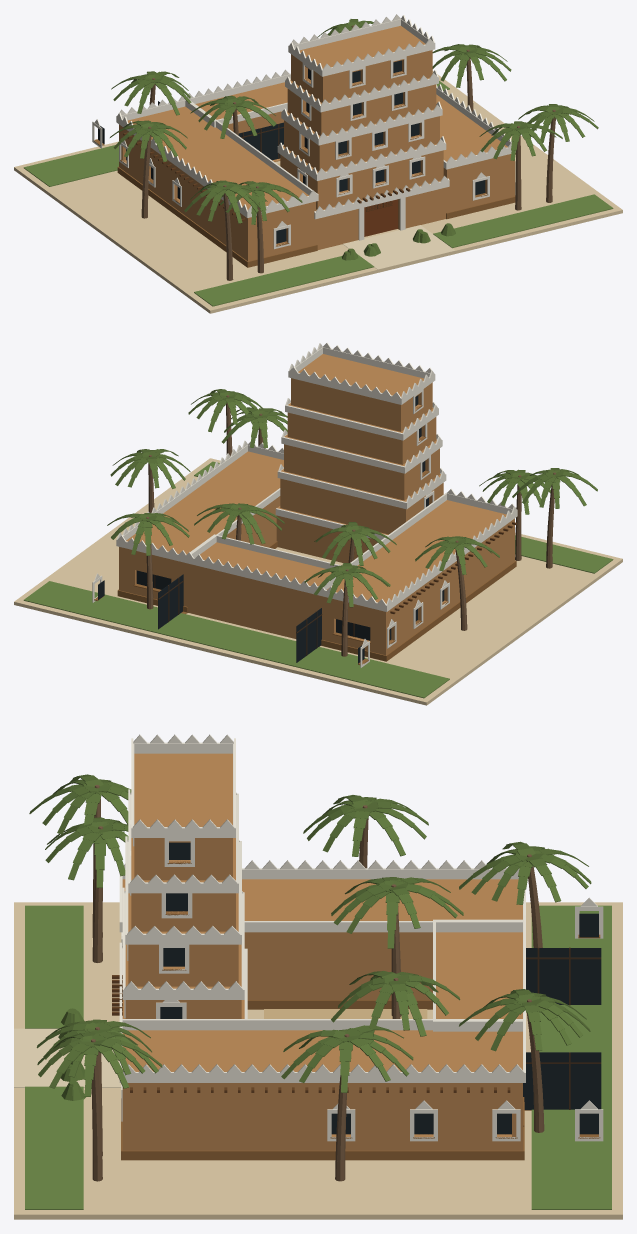
The model's file is najrani.glb.
The picture shows the model from 3 angles, top to bottom: view 1: azimuth 30°, elevation 25°; view 2: azimuth 150°, elevation 25°; view 3: azimuth 270°, elevation 25°; orthographic projection. The views are drawn at different scales.
Visible parts, largest first — view 1: Najrani_mud, Najrani_pave, Najrani_white, Najrani_leaf, Najrani_lawn, Najrani_trunk, Najrani_glass, Najrani_coping, Najrani_mud_d, Najrani_door, Najrani_wood; view 2: Najrani_mud, Najrani_pave, Najrani_white, Najrani_leaf, Najrani_lawn, Najrani_glass, Najrani_trunk, Najrani_mud_d; view 3: Najrani_mud, Najrani_pave, Najrani_white, Najrani_leaf, Najrani_lawn, Najrani_glass, Najrani_mud_d, Najrani_trunk, Najrani_coping, Najrani_court, Najrani_wood, Najrani_frame.
Part boxes in pixels (bbox=[...]): Najrani_mud: bbox=[119, 25, 514, 261]; Najrani_pave: bbox=[14, 71, 622, 313]; Najrani_white: bbox=[92, 14, 515, 249]; Najrani_leaf: bbox=[110, 19, 598, 260]; Najrani_lawn: bbox=[23, 81, 613, 306]; Najrani_trunk: bbox=[141, 25, 555, 280]; Najrani_glass: bbox=[98, 60, 485, 243]; Najrani_coping: bbox=[343, 225, 455, 269]; Najrani_mud_d: bbox=[93, 71, 515, 267]; Najrani_door: bbox=[364, 199, 397, 236]; Najrani_wood: bbox=[119, 130, 515, 221]; Najrani_mud: bbox=[119, 354, 514, 655]; Najrani_pave: bbox=[14, 458, 622, 705]; Najrani_white: bbox=[92, 342, 517, 667]; Najrani_leaf: bbox=[107, 389, 597, 607]; Najrani_lawn: bbox=[23, 461, 613, 698]; Najrani_glass: bbox=[98, 395, 444, 663]; Najrani_trunk: bbox=[146, 395, 555, 656]; Najrani_mud_d: bbox=[94, 405, 516, 664]; Najrani_mud: bbox=[122, 753, 522, 1150]; Najrani_pave: bbox=[14, 902, 622, 1219]; Najrani_white: bbox=[119, 734, 603, 1141]; Najrani_leaf: bbox=[29, 774, 591, 1100]; Najrani_lawn: bbox=[25, 905, 611, 1209]; Najrani_glass: bbox=[160, 842, 601, 1134]; Najrani_mud_d: bbox=[121, 860, 600, 1160]; Najrani_trunk: bbox=[91, 785, 544, 1181]; Najrani_coping: bbox=[14, 1028, 121, 1087]; Najrani_court: bbox=[264, 1009, 427, 1018]; Najrani_wood: bbox=[112, 975, 510, 1092]; Najrani_frame: bbox=[526, 947, 601, 1109].
Size of the model in its own units: 34 by 14.52 by 28.
